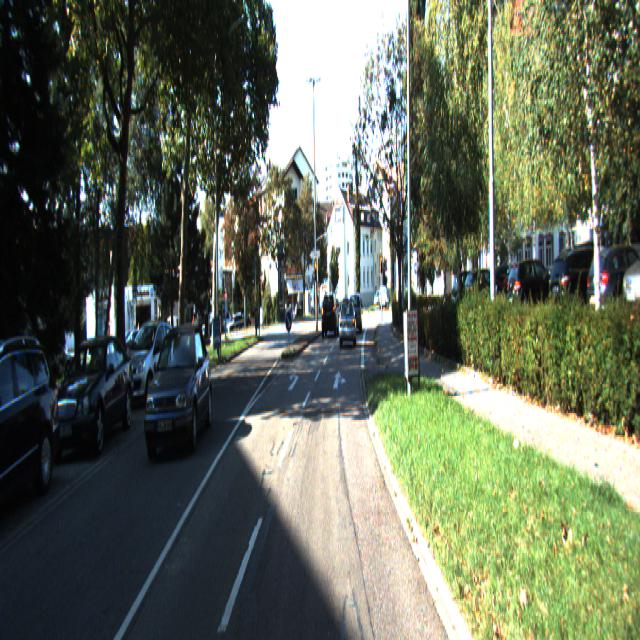Car: (0, 338, 65, 536), (49, 334, 135, 460), (144, 327, 213, 460), (120, 322, 180, 408), (339, 300, 356, 346)
